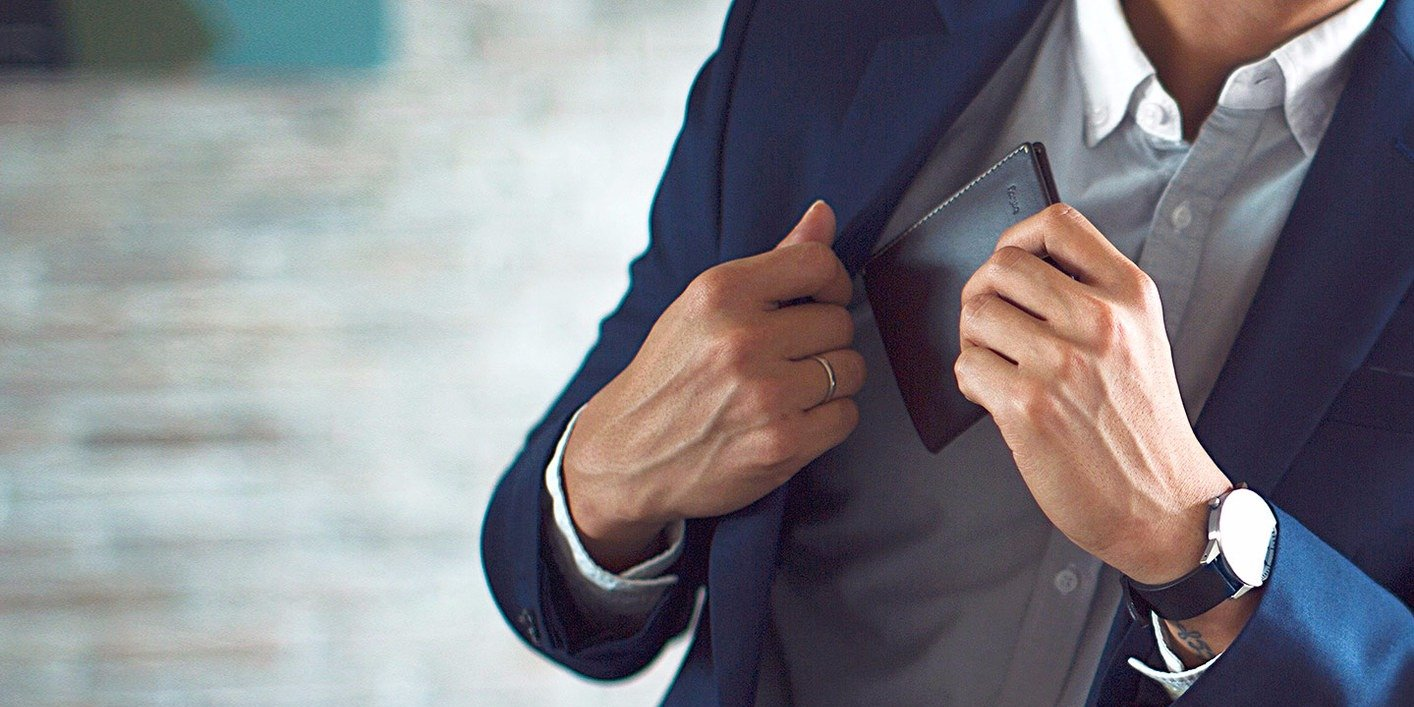monedero: (858, 139, 1080, 461)
